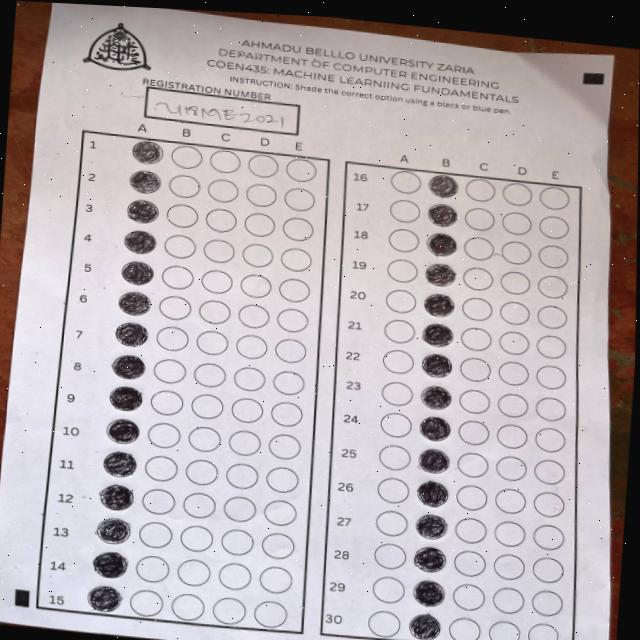bubble: (86, 582, 126, 616), (94, 515, 133, 547), (91, 549, 130, 580), (106, 382, 144, 413), (98, 481, 136, 512), (101, 449, 139, 479), (412, 578, 447, 610), (415, 478, 451, 509), (104, 416, 141, 446), (109, 353, 147, 382), (416, 446, 452, 476), (412, 544, 448, 574), (122, 227, 157, 257), (125, 197, 161, 226), (119, 258, 155, 287), (114, 320, 150, 349), (414, 512, 450, 541), (116, 290, 153, 318), (420, 351, 455, 380), (418, 414, 453, 443), (408, 611, 443, 640), (129, 139, 165, 167), (128, 168, 164, 196), (426, 173, 461, 201), (419, 384, 453, 412), (425, 231, 458, 259), (423, 291, 456, 319), (426, 202, 460, 229), (421, 322, 455, 349), (424, 262, 456, 288)
